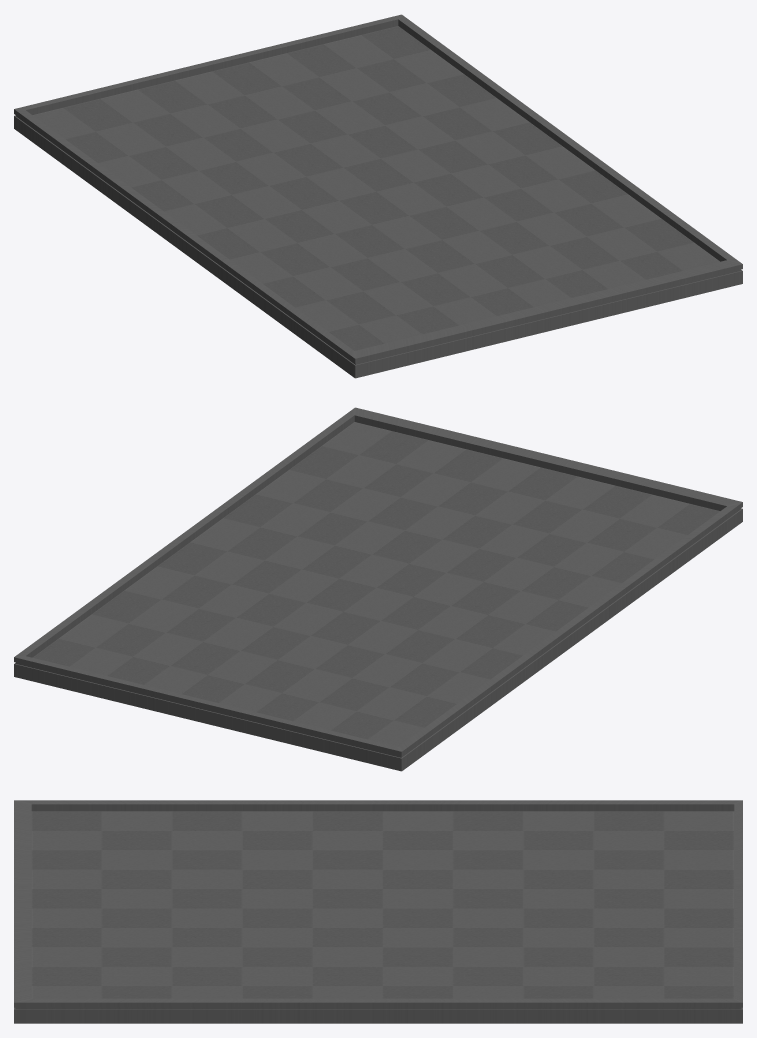
File: SM_Roof.glb
3 renders of one model, top to bottom at view 1: azimuth 30°, elevation 25°; view 2: azimuth 150°, elevation 25°; view 3: azimuth 270°, elevation 25°, orthographic. The views are drawn at different scales.
Visible parts, largest first — view 1: SM_Roof; view 2: SM_Roof; view 3: SM_Roof.
Part boxes in pixels (x1,y1,x2,y2): SM_Roof: (14,14,742,378); SM_Roof: (14,407,742,771); SM_Roof: (14,800,742,1023).
Size of the model in its own units: 1842 by 89.3 by 2808.
1 material, 1 textured.
